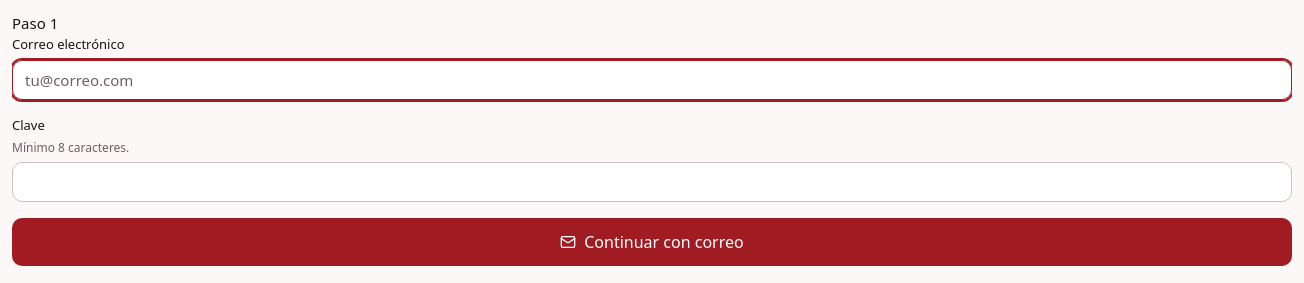
FormularioRegistro › pasa a pedir nombre y ciudad cuando el correo está libre
The width and height of the screenshot is (1304, 283).
Type "nueva@correo.com" into the field labelled "Correo electrónico" at (652,80), box x1=12 y1=60 x2=1292 y2=100
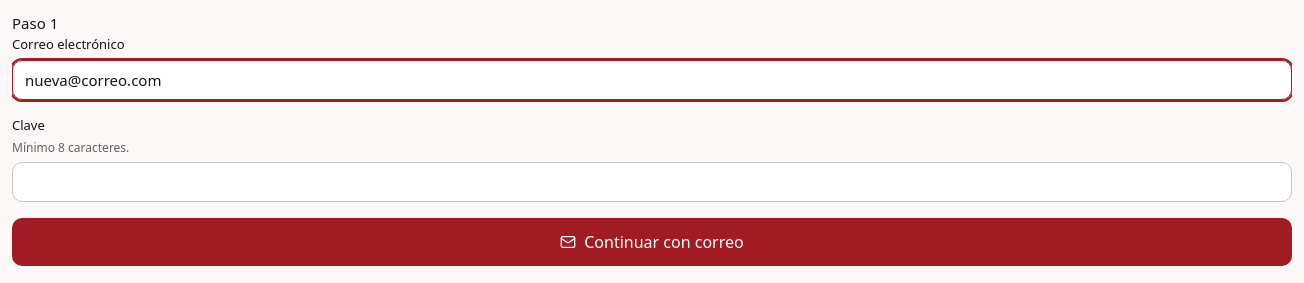
Type "12345678" into the password field labelled "Clave" at (652,182), box x1=12 y1=162 x2=1292 y2=202
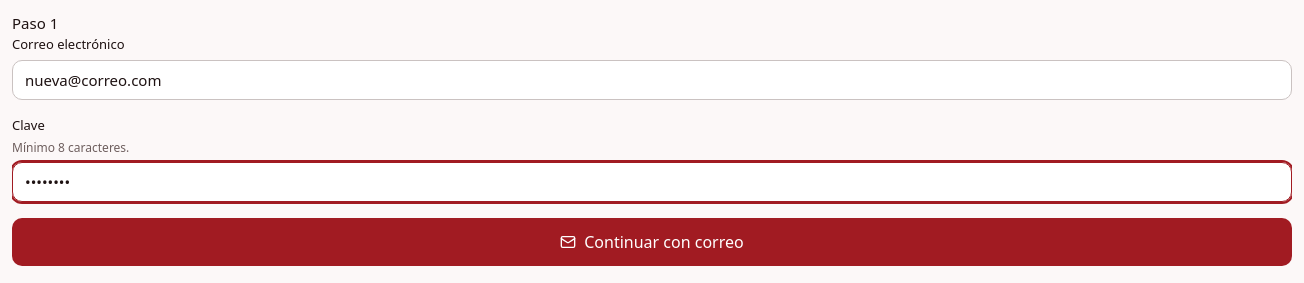
Click the button "Continuar con correo" at (652,242), box x1=12 y1=218 x2=1292 y2=266
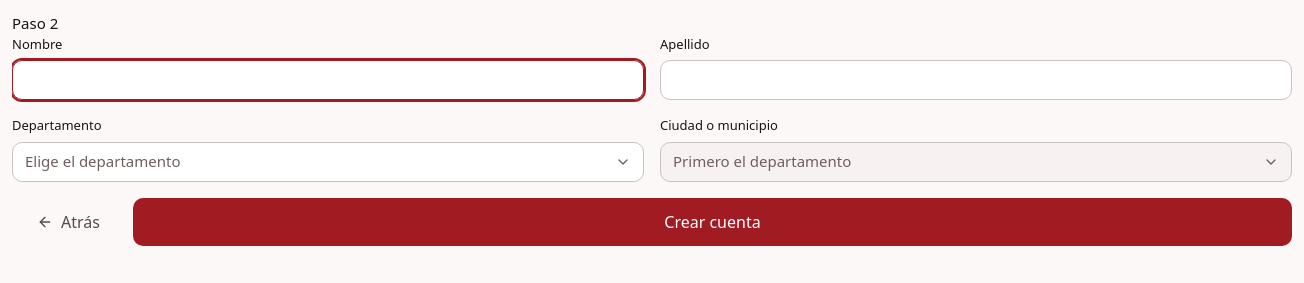
expect the text "Paso 2" is shown: met, box x1=12 y1=13 x2=58 y2=33
expect the field labelled "Nombre" is shown: met, box x1=12 y1=60 x2=644 y2=100
